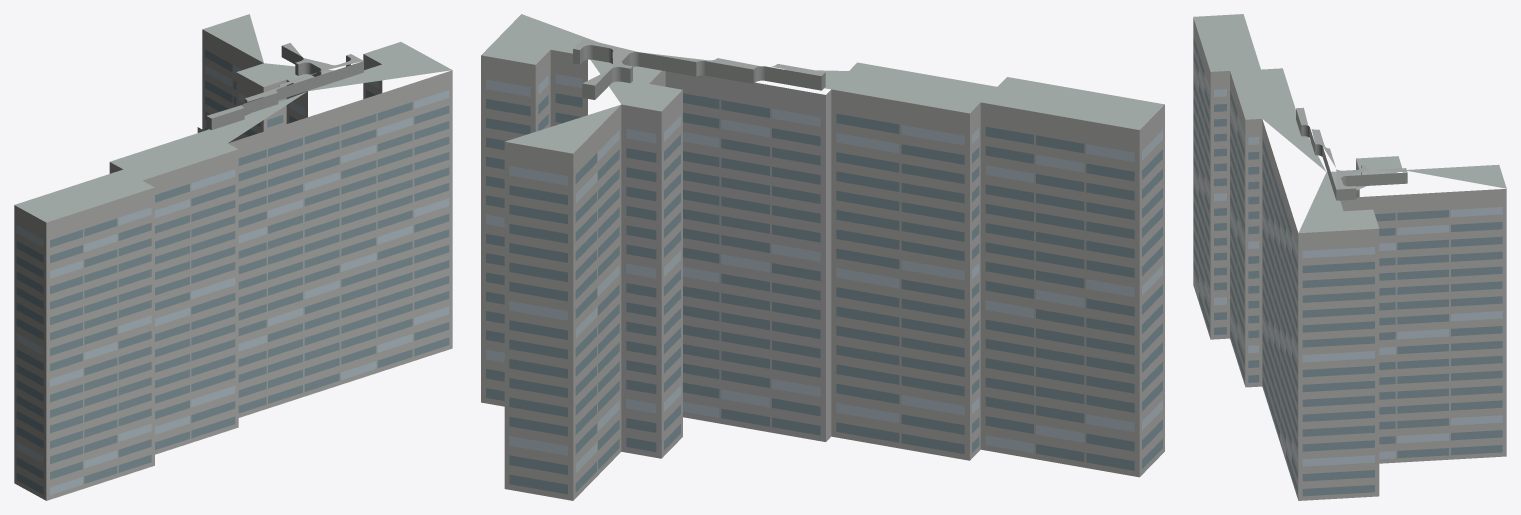
The model's file is apt-a13186801.glb.
3 renders of one model, left to right at view 1: azimuth 30°, elevation 25°; view 2: azimuth 150°, elevation 25°; view 3: azimuth 270°, elevation 25°, orthographic. The views are drawn at different scales.
Parts seen in each view (by area): view 1: apt-a13186801; view 2: apt-a13186801; view 3: apt-a13186801.
Boxes of the visible parts, left/top/right/bottom form: apt-a13186801: left=14, top=14, right=452, bottom=500; apt-a13186801: left=481, top=14, right=1164, bottom=500; apt-a13186801: left=1193, top=14, right=1506, bottom=500.
Size of the model in its own units: 101 by 60 by 61.15.
